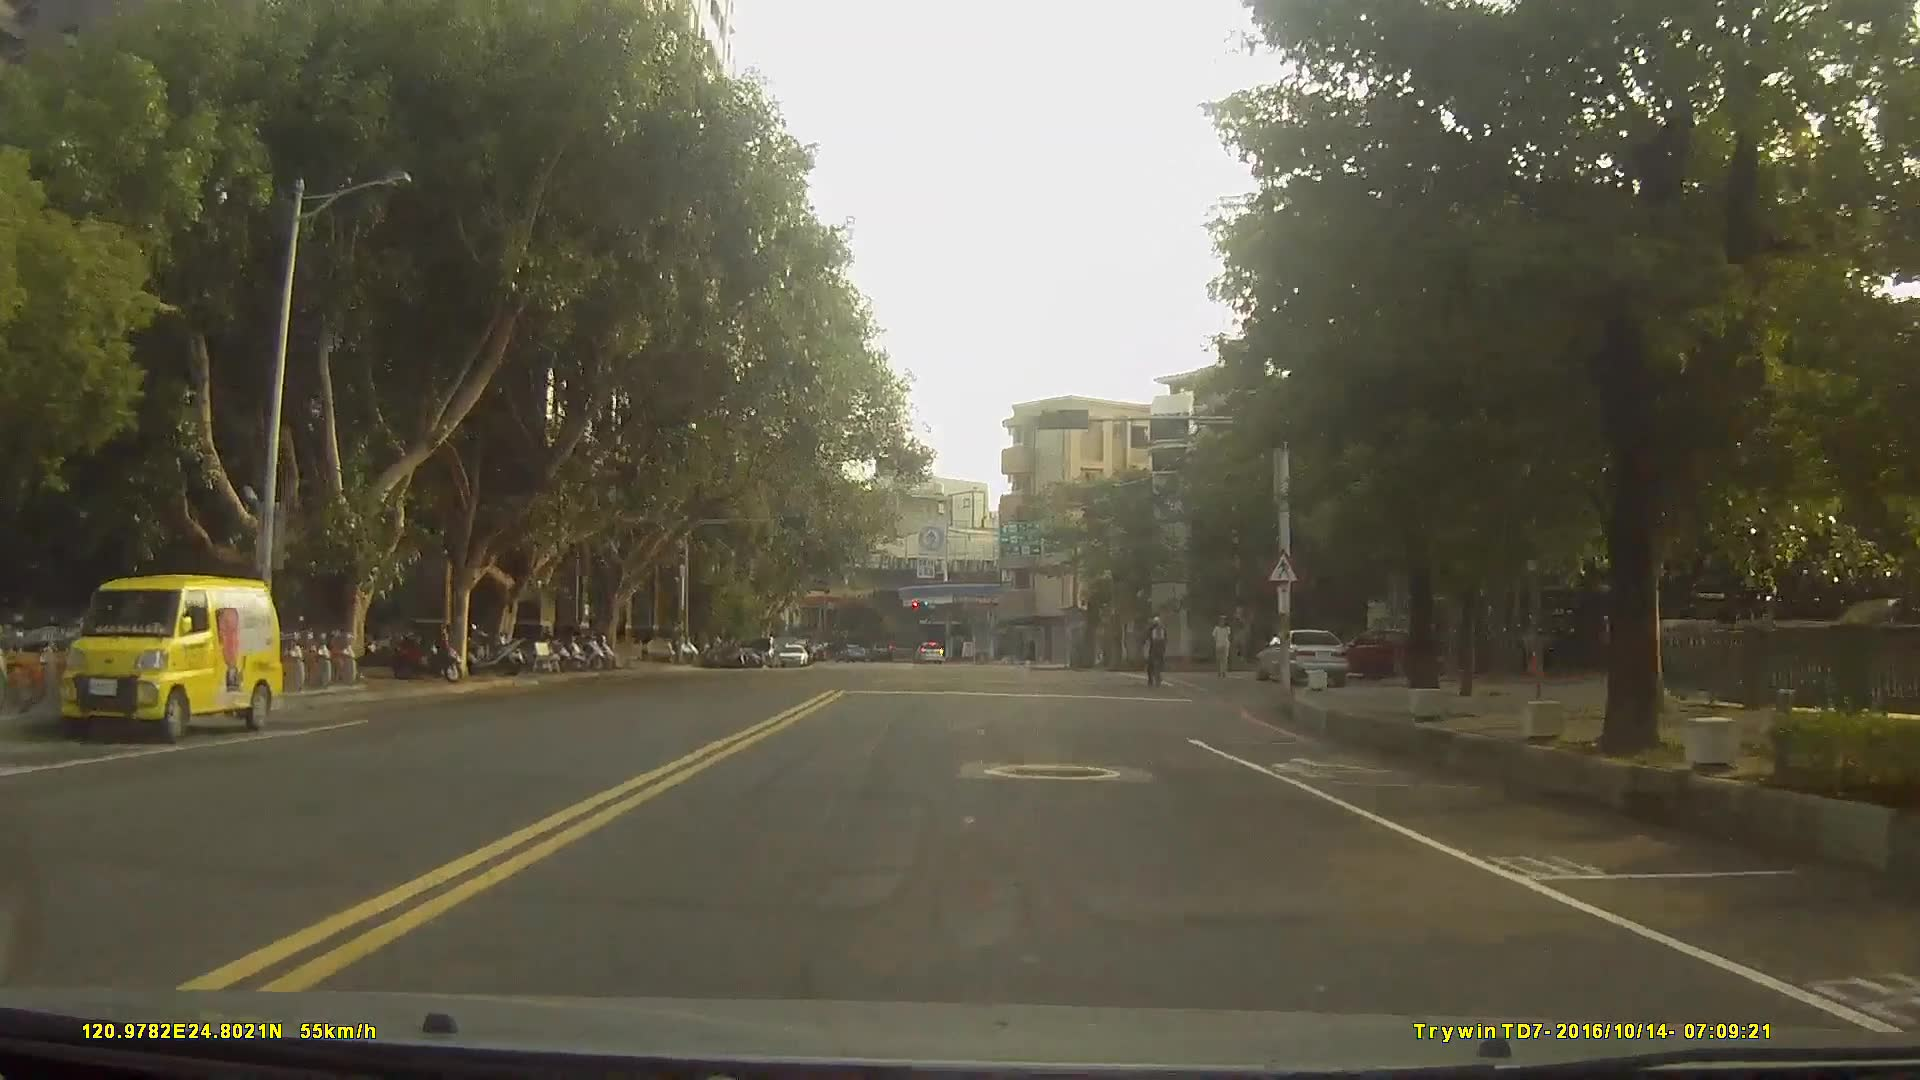pedestrian: (1211, 614, 1239, 685)
rider: (1145, 617, 1174, 690)
vehicle: (1316, 626, 1427, 681), (1256, 628, 1350, 687), (912, 639, 944, 663), (777, 642, 808, 665)
